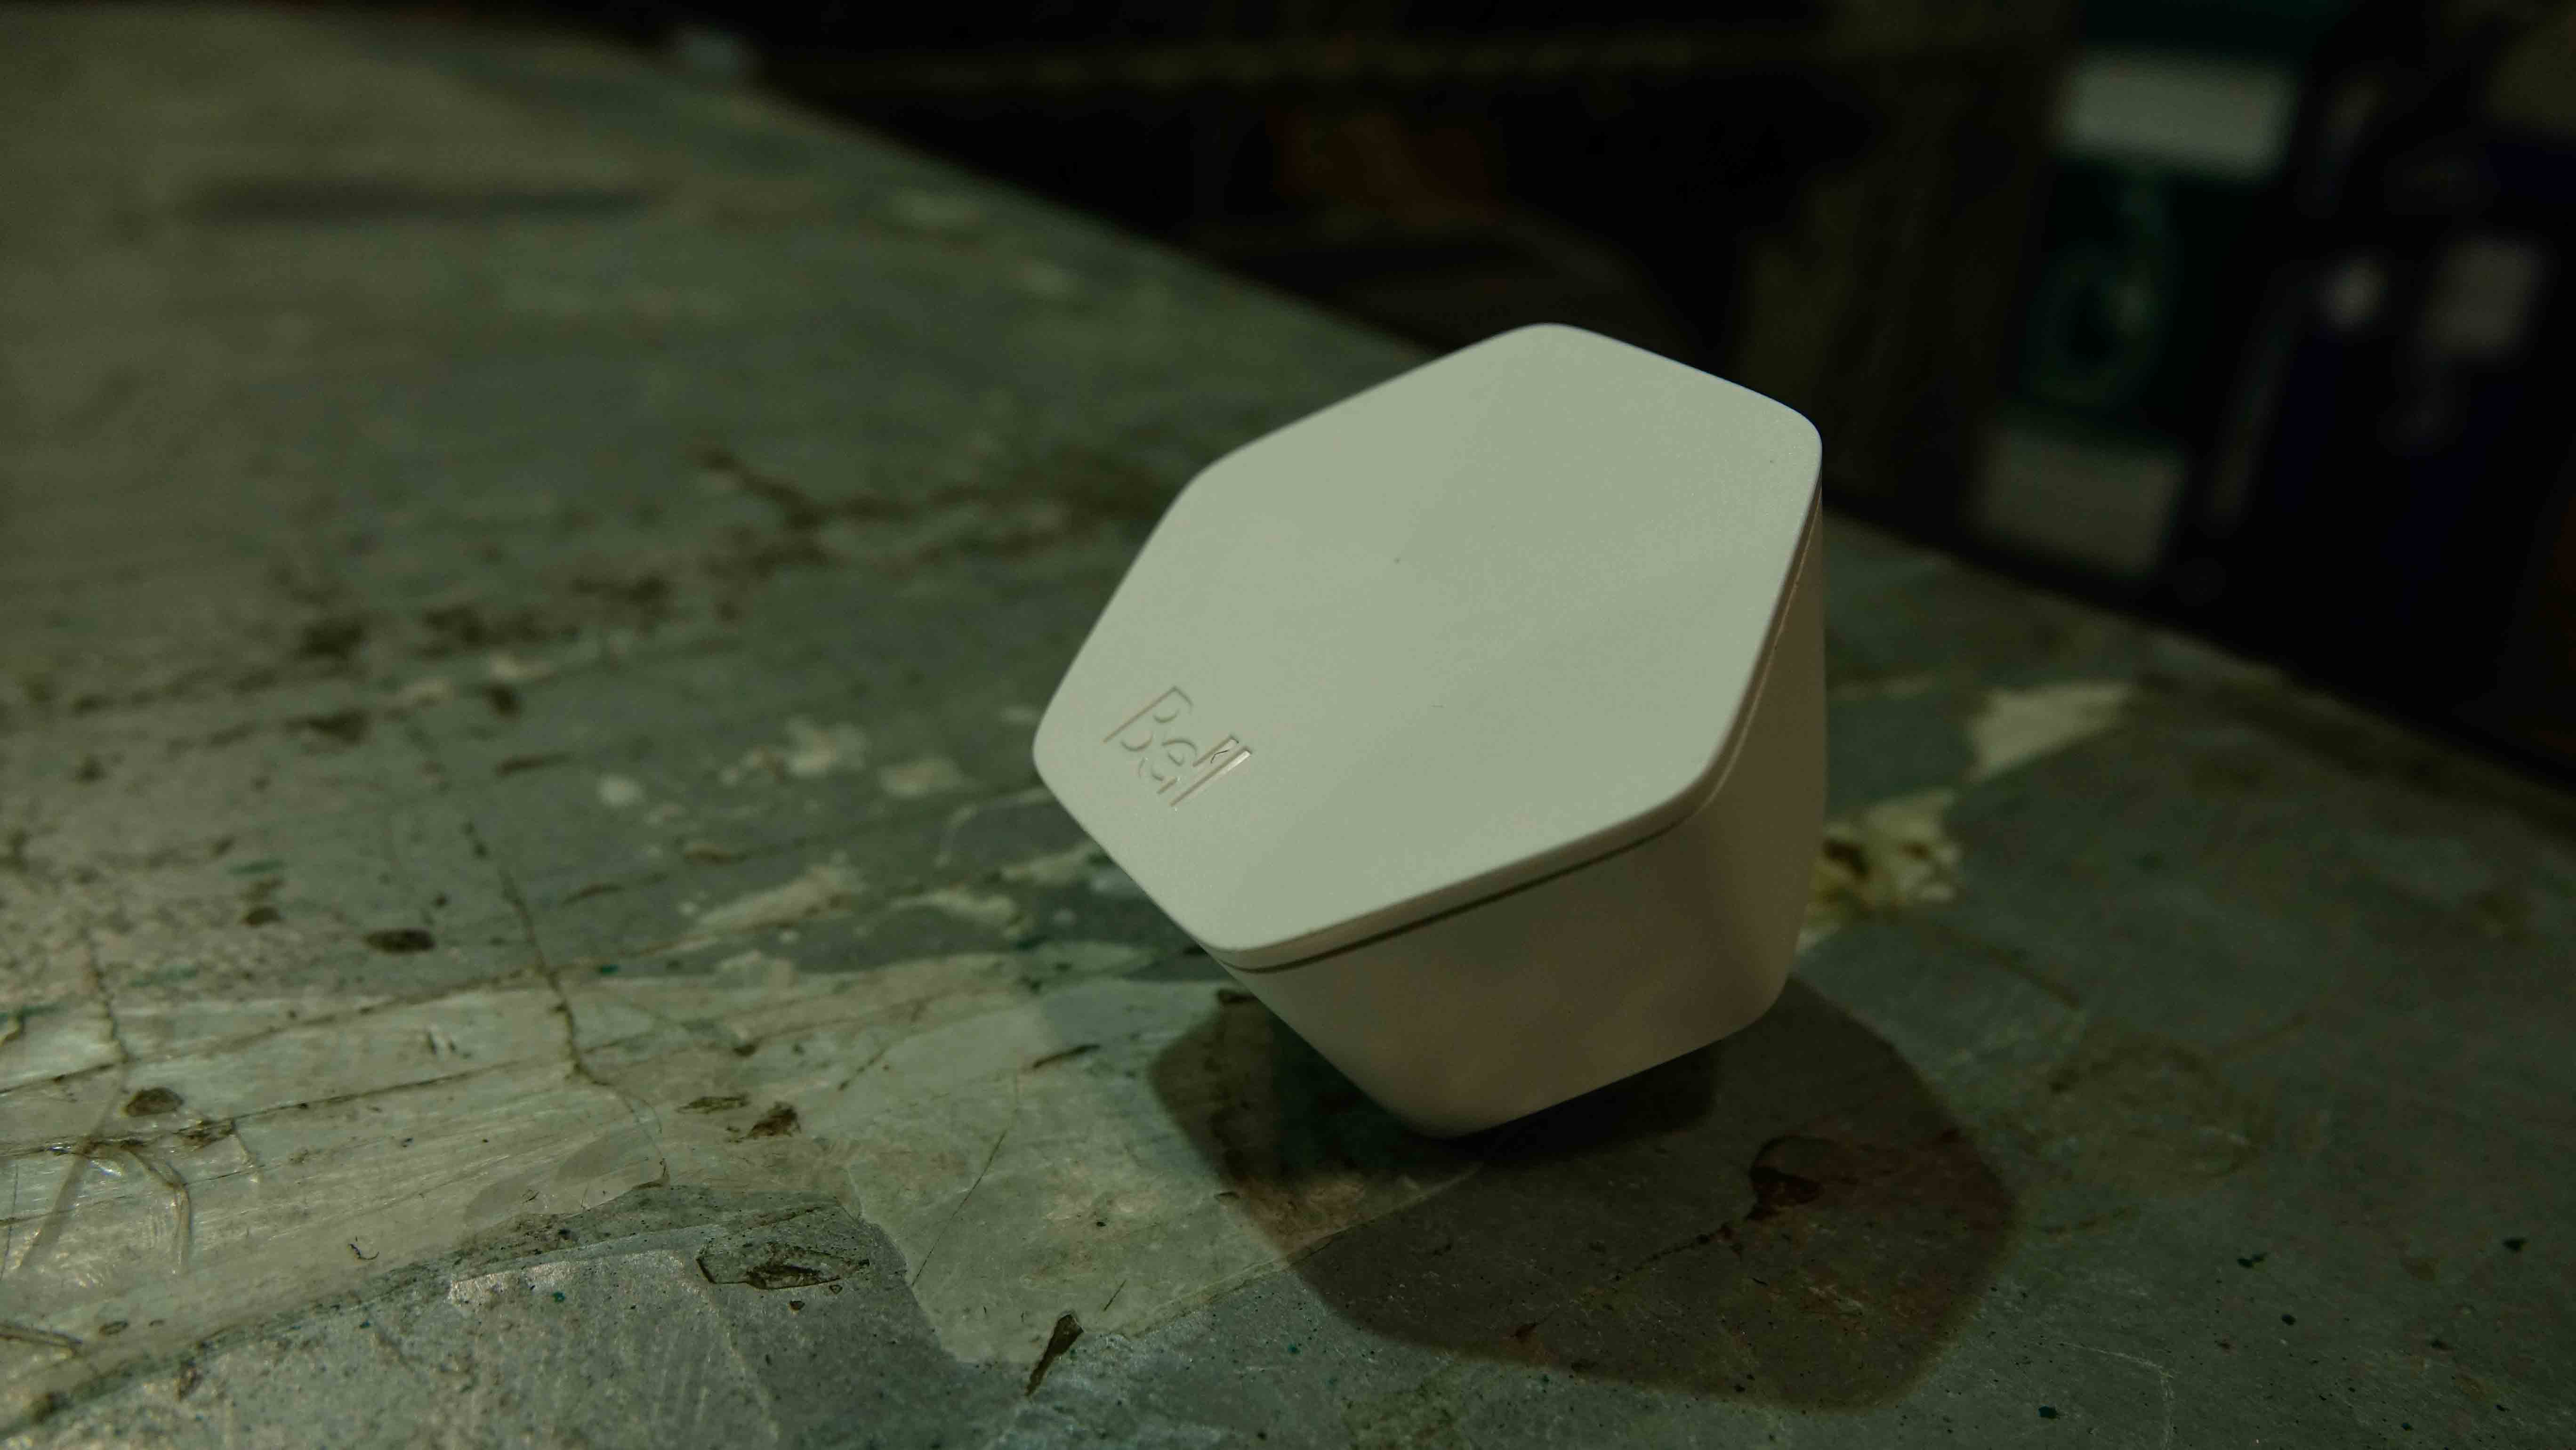pod: (1024, 324, 1858, 1149)
